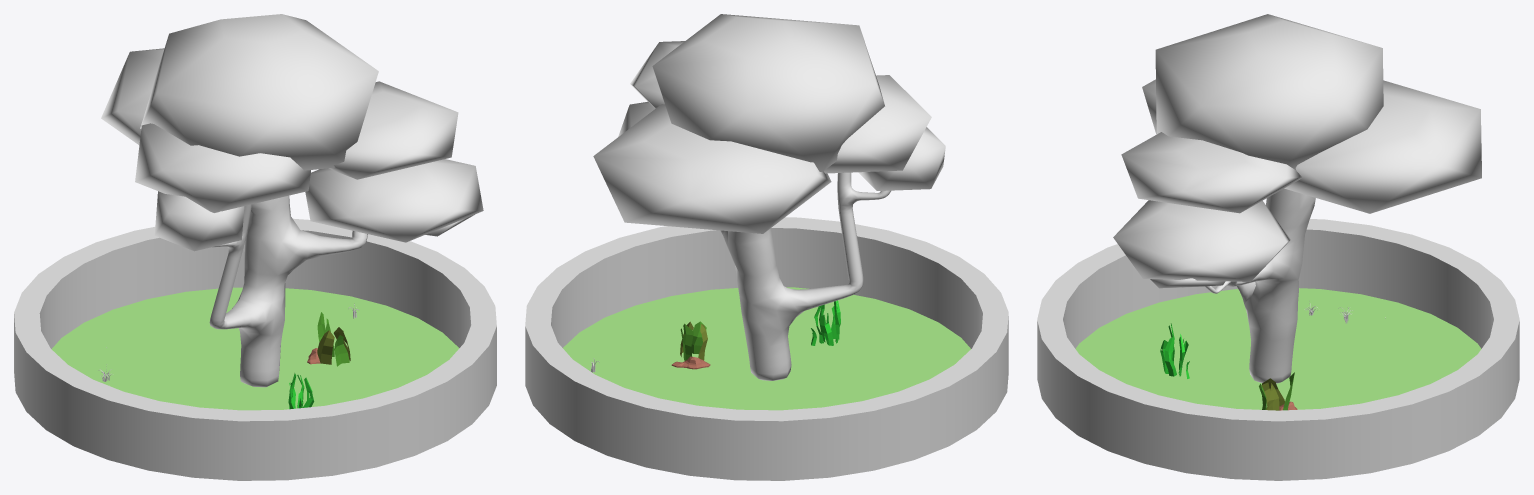
The model's file is light farm.fbx.
3 views of the same model, side by side, from view 1: azimuth 30°, elevation 25°; view 2: azimuth 150°, elevation 25°; view 3: azimuth 270°, elevation 25° (orthographic).
Visible parts, largest first — view 1: Circle, Cube.005; view 2: Circle, Cube.005; view 3: Circle, Cube.005.
Boxes of the visible parts, x1=… form: Circle: x1=14, y1=218, x2=496, y2=480; Cube.005: x1=101, y1=14, x2=483, y2=387; Circle: x1=525, y1=217, x2=1008, y2=480; Cube.005: x1=593, y1=14, x2=945, y2=380; Circle: x1=1037, y1=219, x2=1519, y2=480; Cube.005: x1=1113, y1=14, x2=1481, y2=383.
Bounding box in the file's own units: 361 × 290 × 361.
